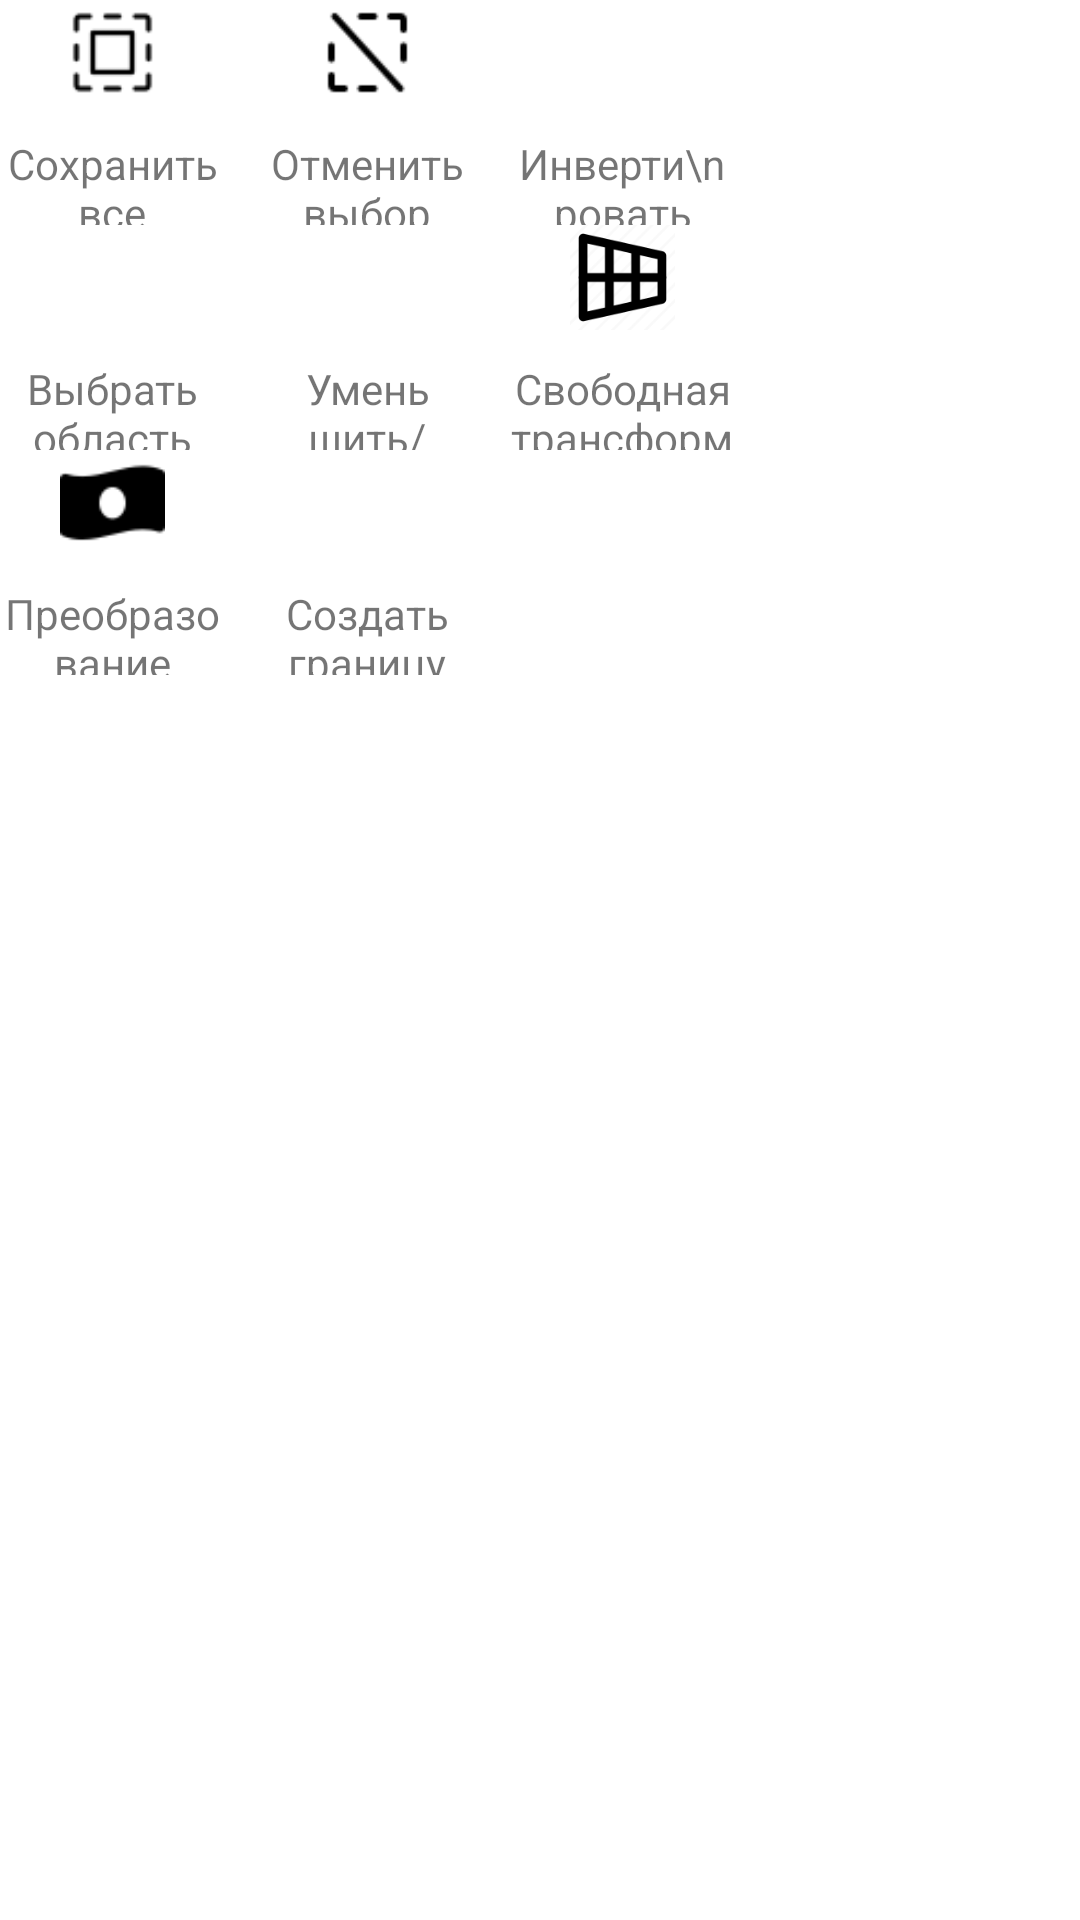

Locate icon controls on the screen. Image size 1080px x 1920px, boxes as (x1, y1, x2, y2).
cancel selection: (327, 12, 408, 93)
free transform: (578, 233, 667, 322)
transform: (60, 465, 165, 541)
